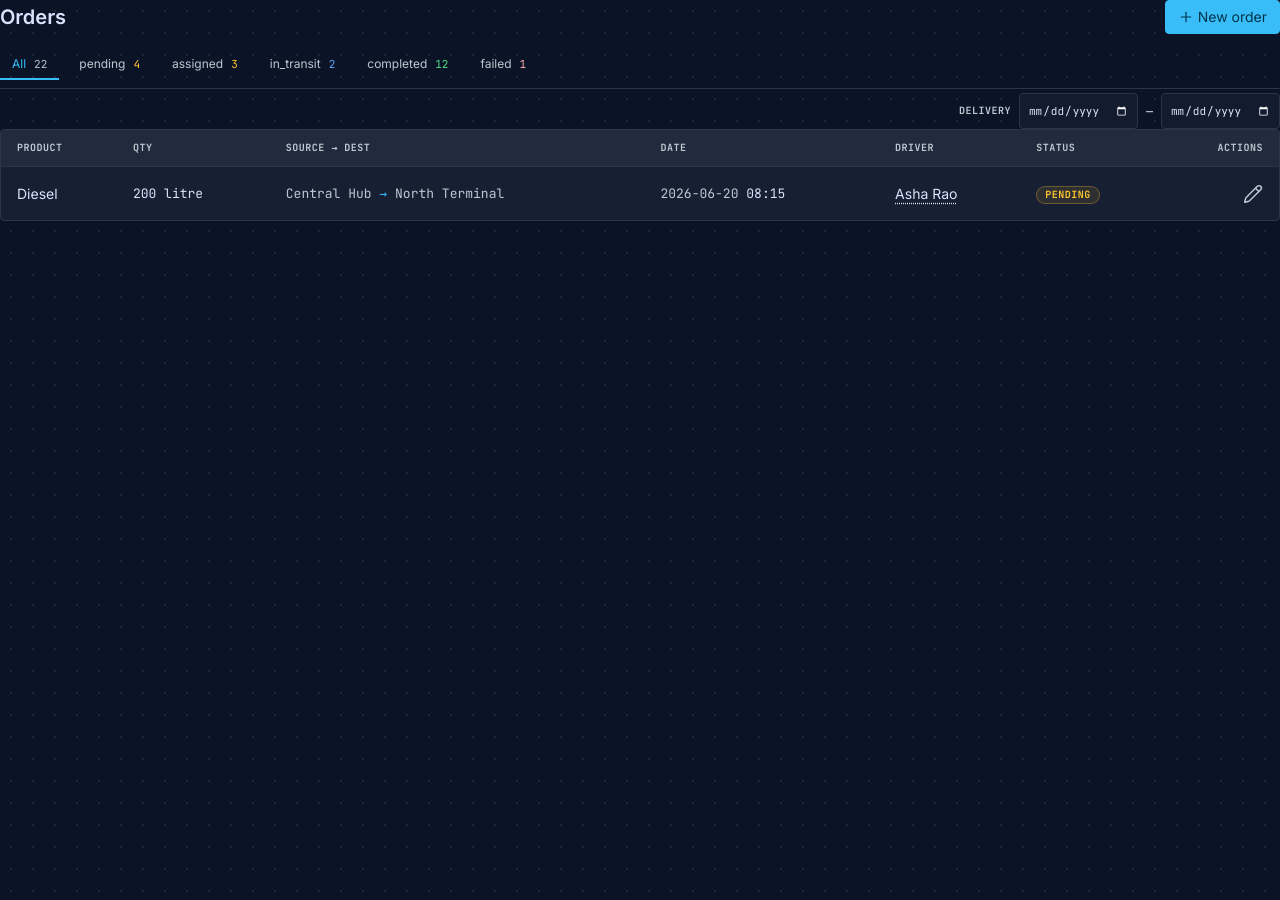
Test: Orders page › edits an order: seeds the form from the row and PATCHes (update path)
The image size is (1280, 900).
Expected: the text "Diesel" is shown, [1,166,117,220]
Click the button named "Edit order" at [1253, 194], box [1243,184,1263,204]
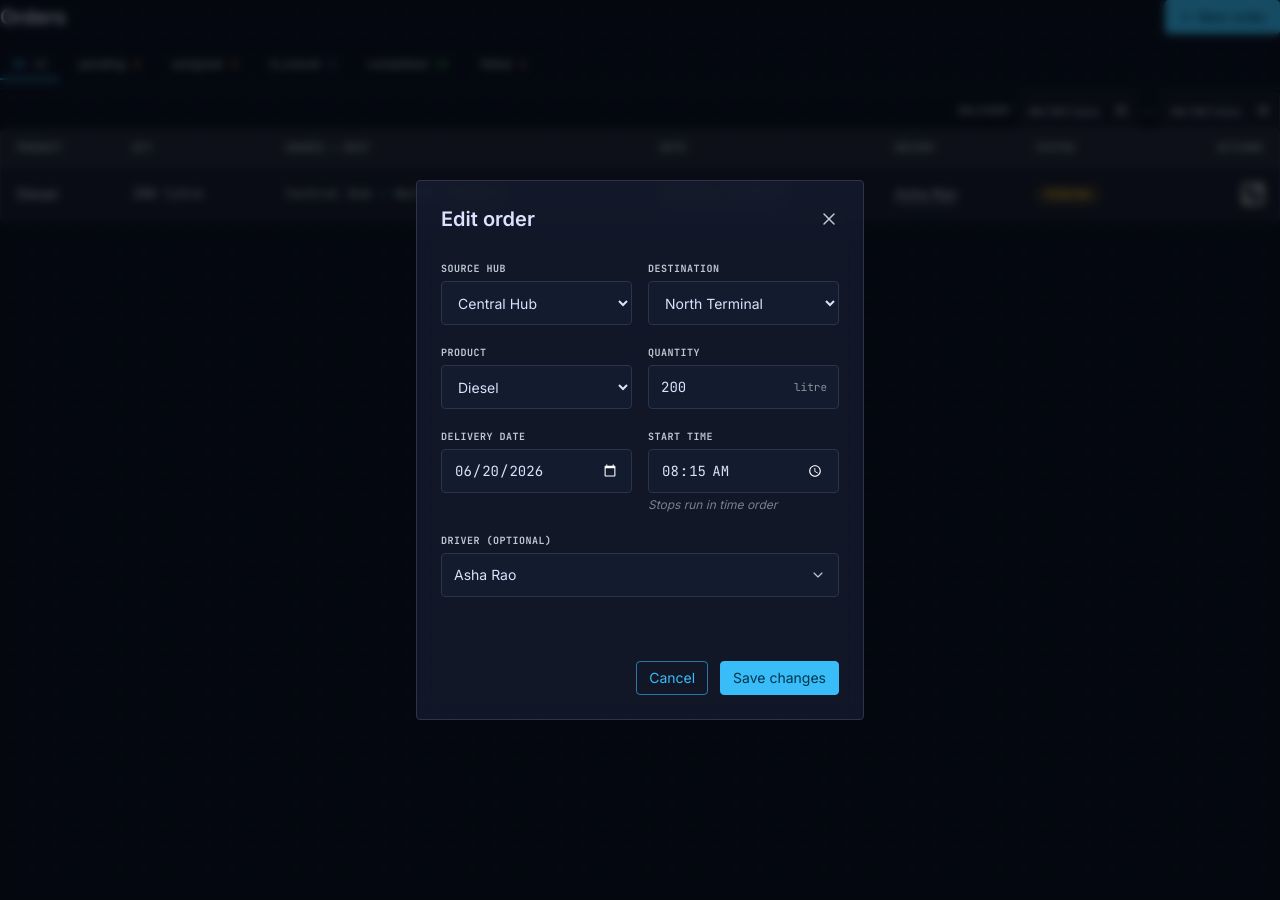
Now the heading "Edit order" is shown, box [441,205,535,233]
Now the button "Save changes" is shown
Now the number field labelled "Quantity" holds "200", box [648,365,839,409]
Click the button "Save changes" at [780, 678], box [720,661,839,695]
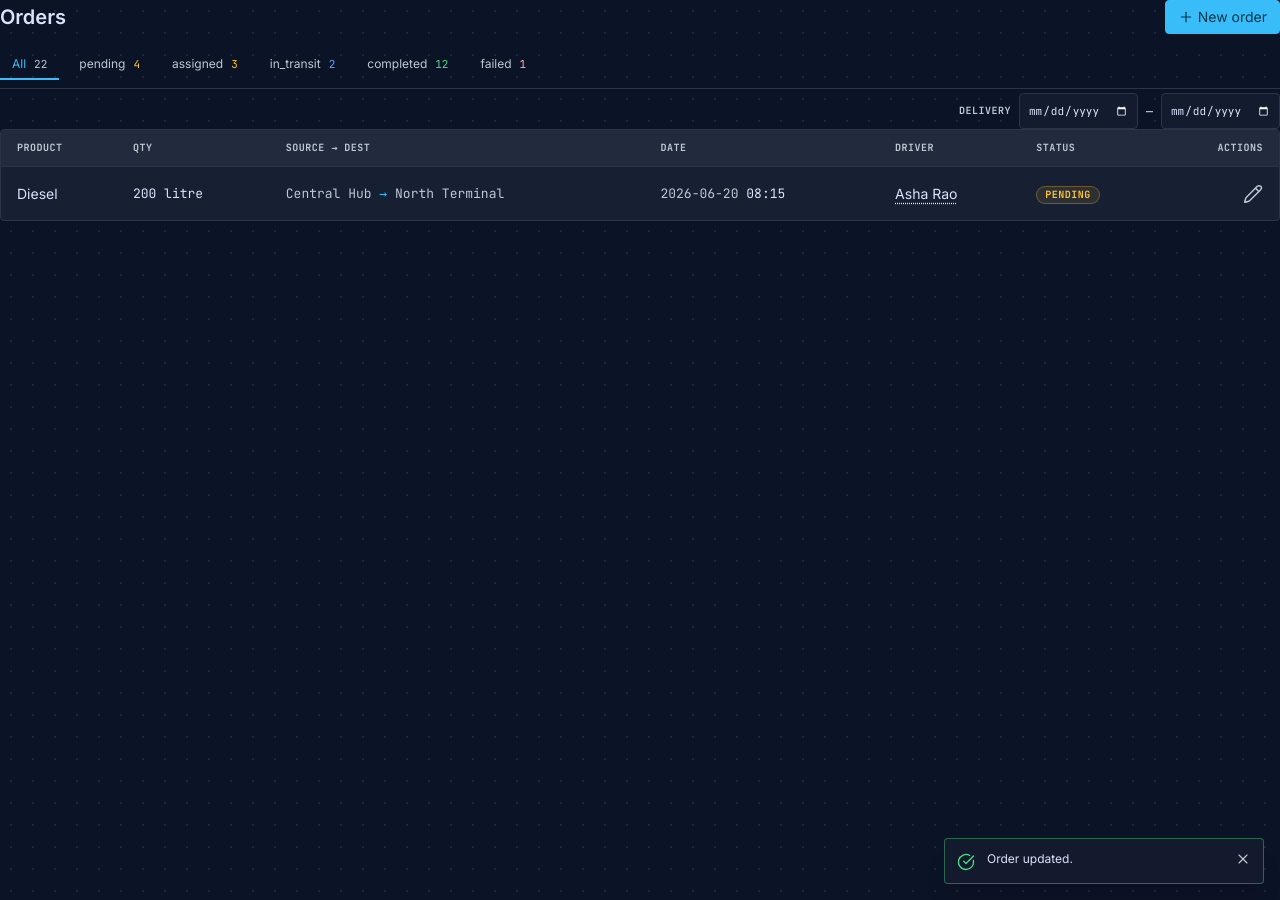
Now the text "Order updated." is shown, box [987,851,1073,866]
